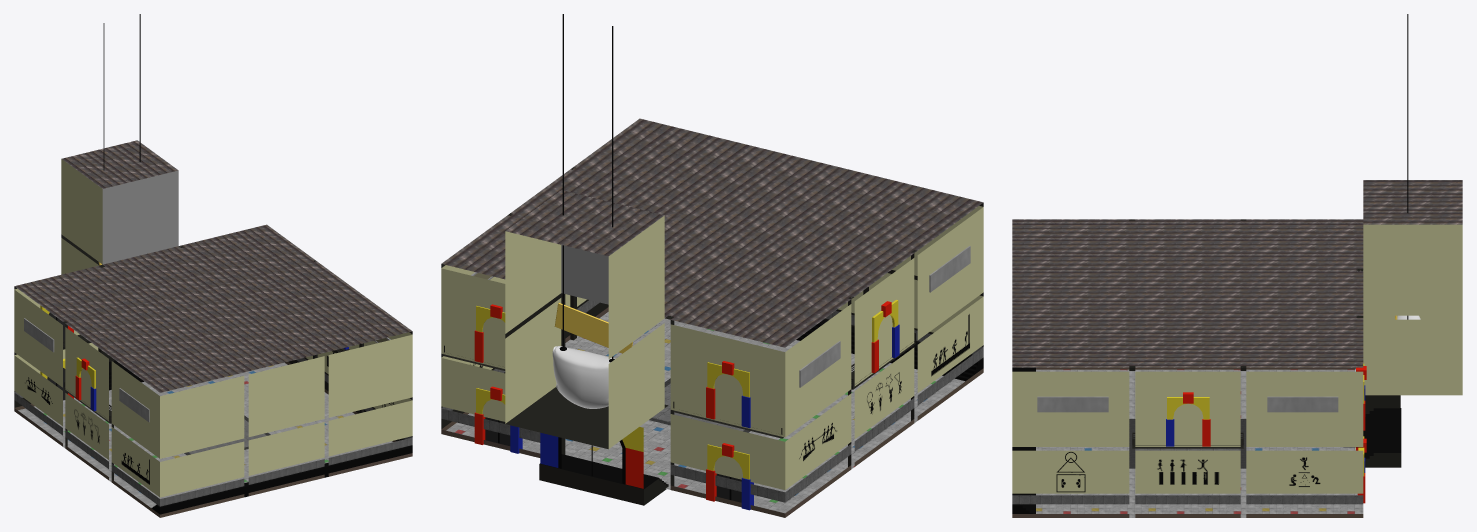
File: lobby.fbx
3 views of the same model, side by side, from view 1: azimuth 30°, elevation 25°; view 2: azimuth 150°, elevation 25°; view 3: azimuth 270°, elevation 25° (orthographic). The views are drawn at different scales.
Parts seen in each view (by area): view 1: lobby, huggy_piggy_lobby; view 2: lobby, huggy_piggy_lobby; view 3: lobby, huggy_piggy_lobby.
Boxes of the visible parts, x1,y1,x2,y2 form: lobby: (14,140,412,517); huggy_piggy_lobby: (98,14,140,265); lobby: (441,118,983,517); huggy_piggy_lobby: (552,14,632,408); lobby: (1012,180,1462,517); huggy_piggy_lobby: (1395,14,1420,319).
Size of the model in its own units: 68.9 by 88.78 by 86.2.
24 materials, 12 textured.
